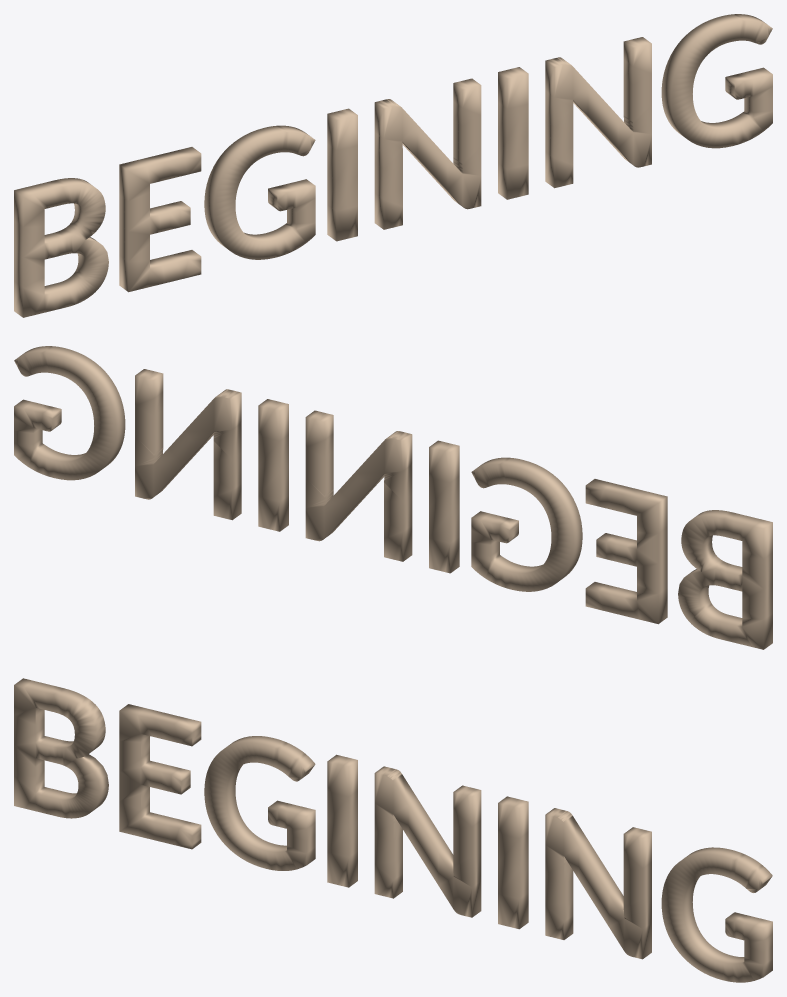
Rendered from begining.dae.
3 views of the same model, one above another, from view 1: azimuth 30°, elevation 25°; view 2: azimuth 150°, elevation 25°; view 3: azimuth 330°, elevation 25° (orthographic).
Visible parts, largest first — view 1: text3-0; view 2: text3-0; view 3: text3-0.
Part boxes in pixels (<box>): text3-0: <box>14,14,772,317</box>; text3-0: <box>14,346,772,649</box>; text3-0: <box>14,678,772,982</box>.
Bounding box in the file's own units: 9.38 × 1.48 × 0.2.
